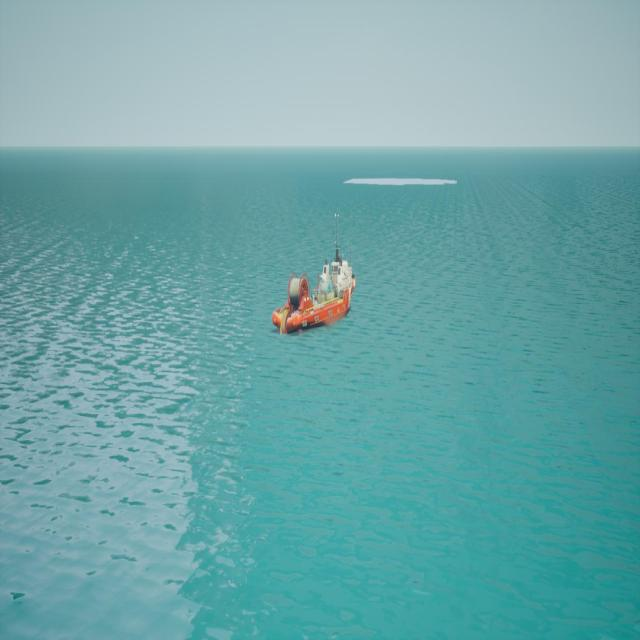tug boat: (274, 238, 355, 338)
